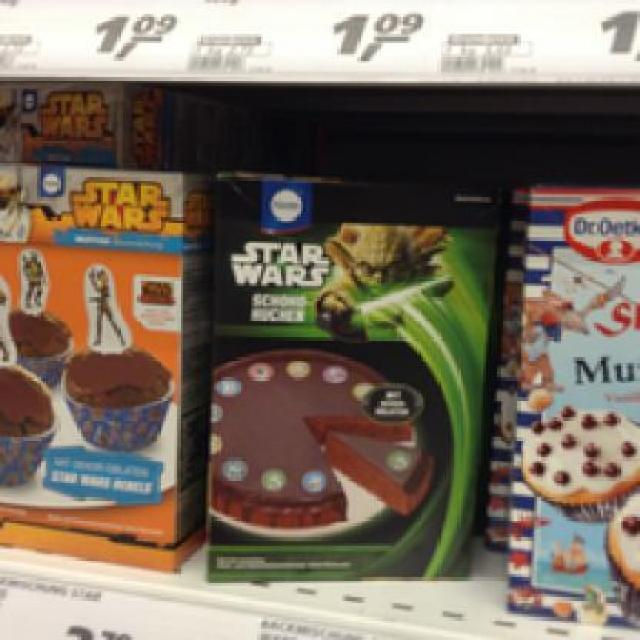Cake: (203, 157, 483, 594), (0, 160, 197, 577)
